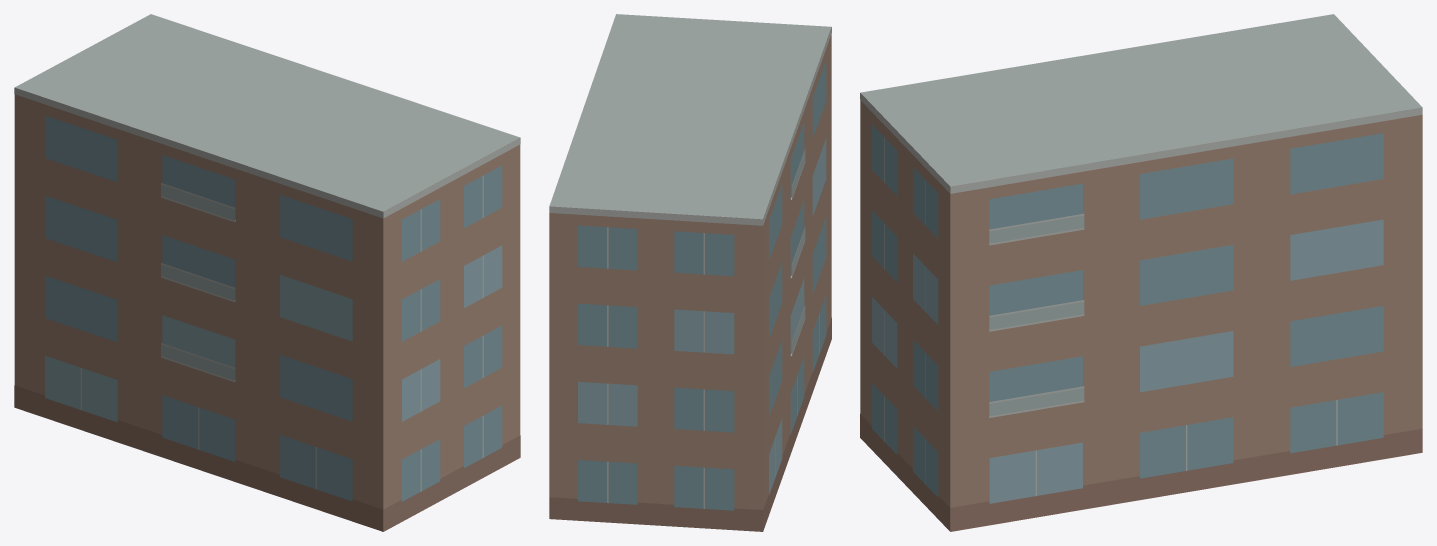
The model's file is survey-upis-32955144.glb.
The picture shows the model from 3 angles, left to right: view 1: azimuth 30°, elevation 25°; view 2: azimuth 150°, elevation 25°; view 3: azimuth 270°, elevation 25°; orthographic projection. The views are drawn at different scales.
Visible parts, largest first — view 1: survey-upis-32955144.tmp; view 2: survey-upis-32955144.tmp; view 3: survey-upis-32955144.tmp.
Part boxes in pixels (bbox=[...]): survey-upis-32955144.tmp: bbox=[14, 14, 520, 531]; survey-upis-32955144.tmp: bbox=[549, 14, 831, 531]; survey-upis-32955144.tmp: bbox=[860, 14, 1422, 531].
Size of the model in its own units: 12.57 by 11.7 by 17.29.
